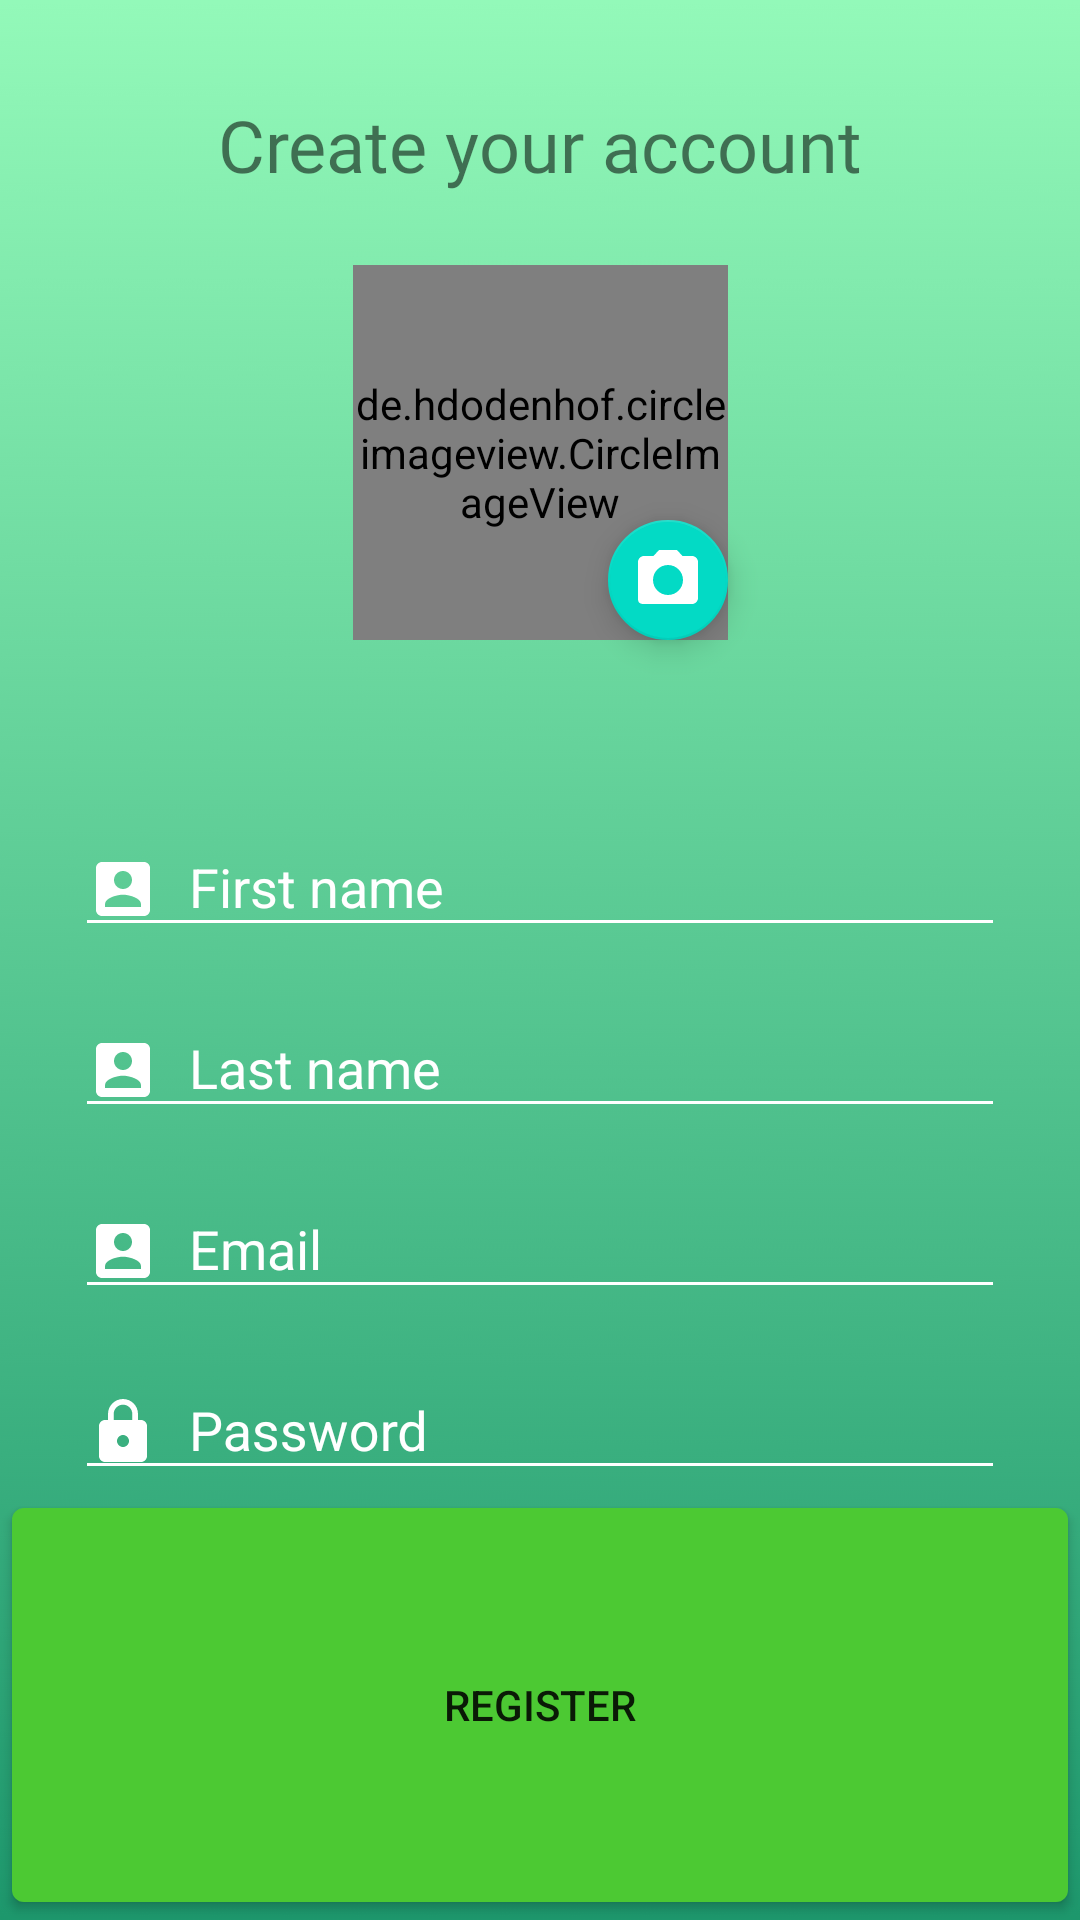

Icons on this 1080px x 1920px Android screen, each with the point to tap as [x,y]:
camera: [668,580]
